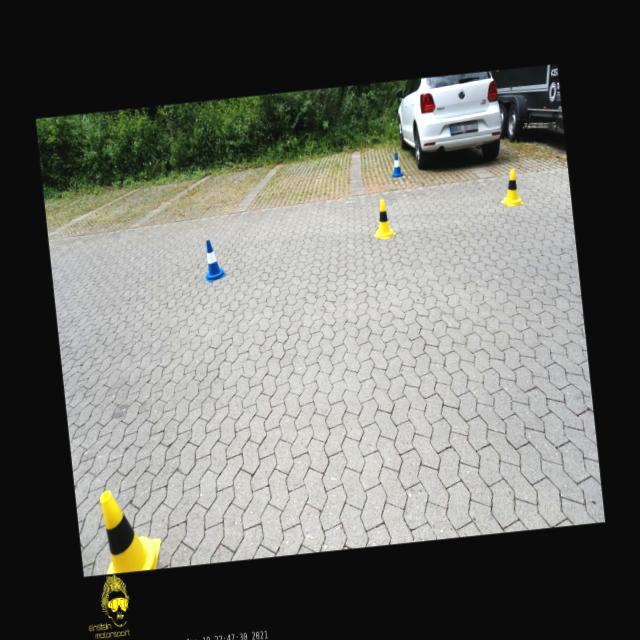blue_cone: (201, 238, 225, 281), (390, 152, 402, 176)
yellow_cone: (98, 484, 164, 574), (370, 198, 396, 240), (497, 168, 523, 206)
